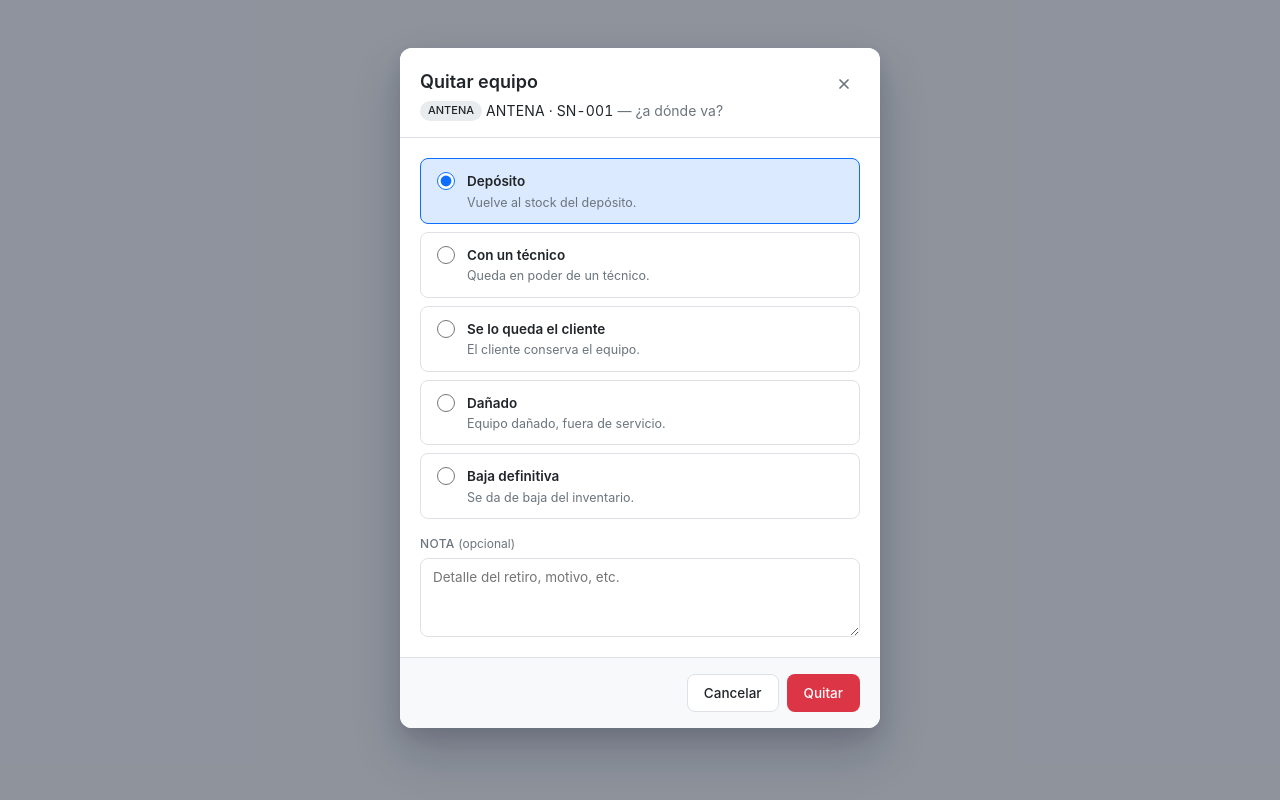
Scenario: RetireInstalledItemModal › "Con un técnico" reveals a technician dropdown
Click the radio button labelled "Con un técnico Queda en poder de un técnico." at (446, 255), box top-left (437, 246), bottom-right (455, 264)
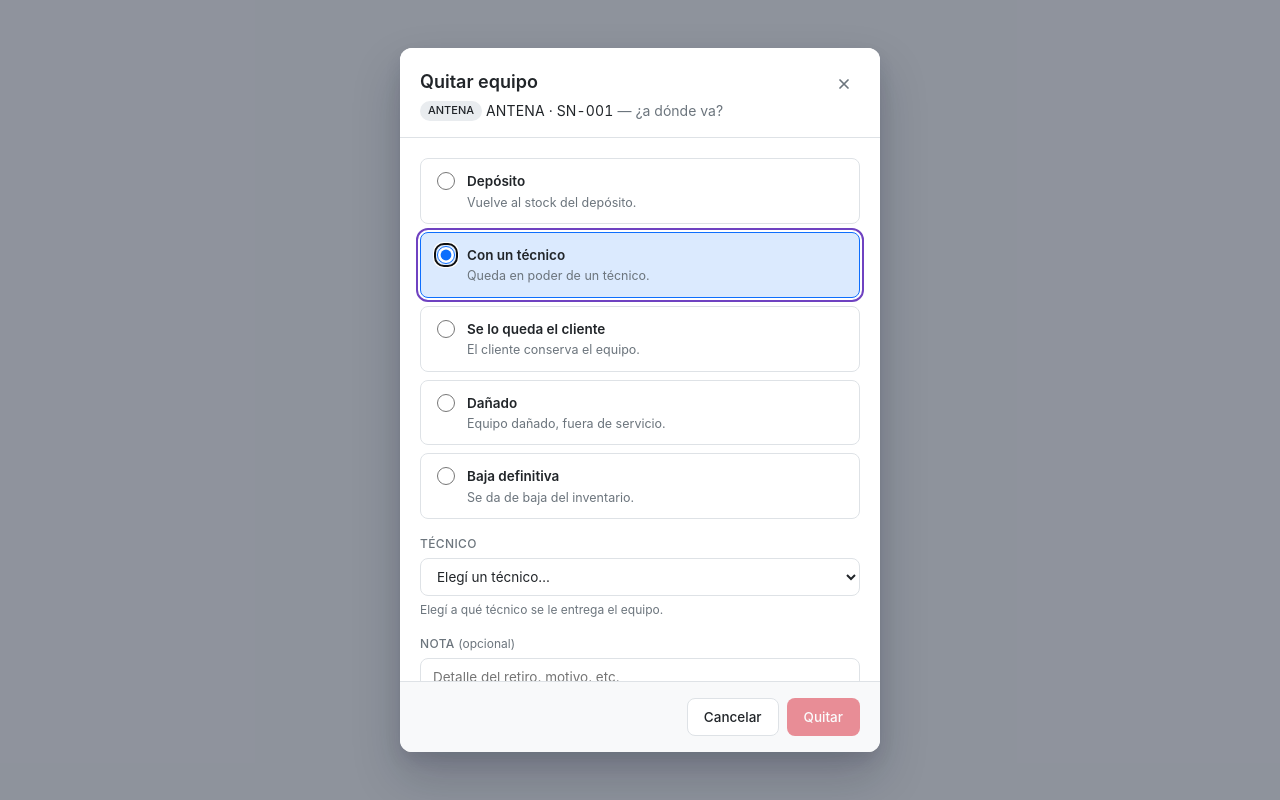
Expected: the dropdown is shown, top-left (420, 558), bottom-right (860, 596)
